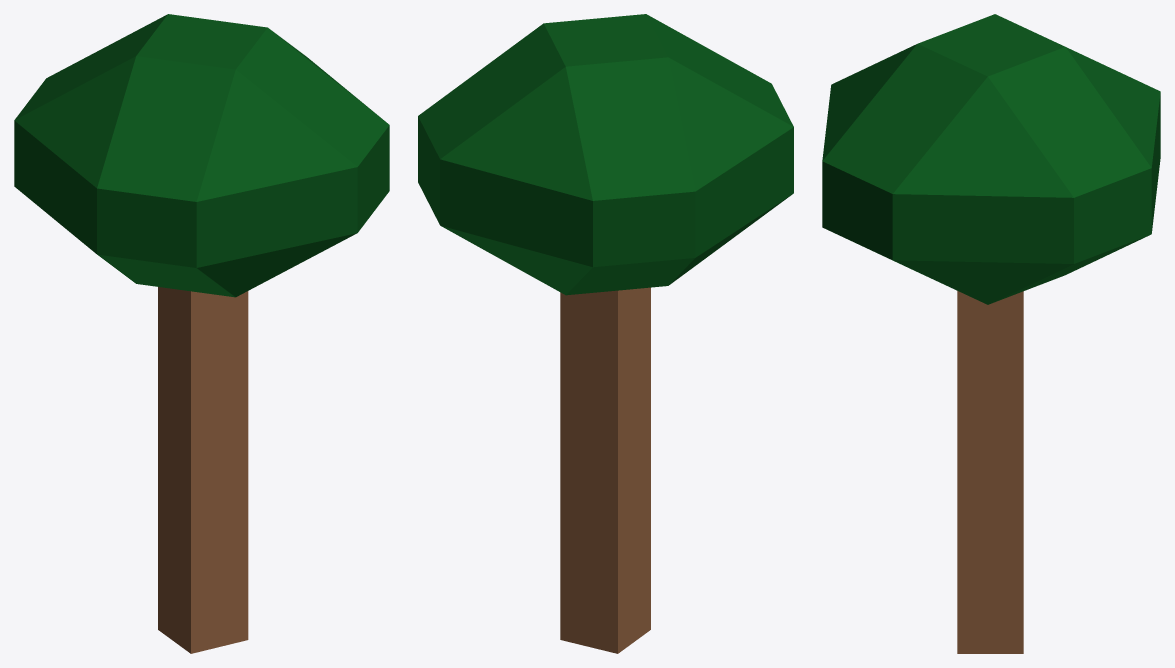
Rendered from tree_43.glb.
3 views of the same model, side by side, from view 1: azimuth 30°, elevation 25°; view 2: azimuth 150°, elevation 25°; view 3: azimuth 270°, elevation 25° (orthographic).
Visible parts, largest first — view 1: body; view 2: body; view 3: body.
Part boxes in pixels (x1=…): body: x1=14, y1=14, x2=389, y2=653; body: x1=418, y1=14, x2=793, y2=653; body: x1=822, y1=14, x2=1160, y2=653.
Size of the model in its own units: 0.6002 by 1.16 by 0.6002.
